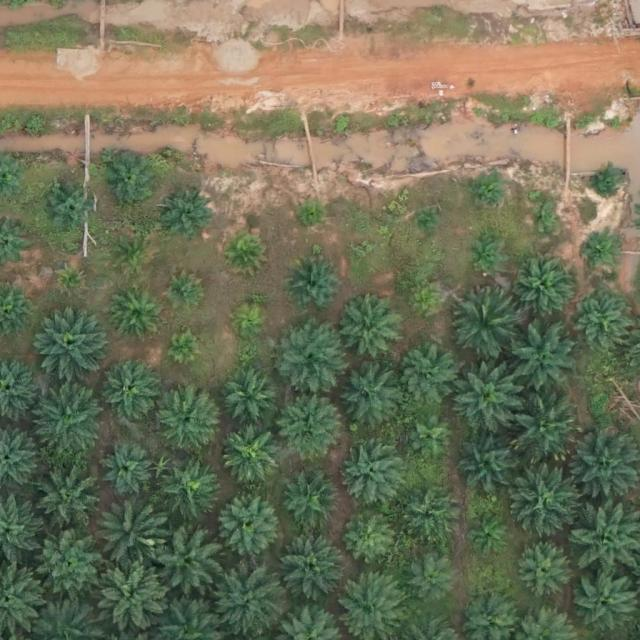Healthy: (505, 324, 576, 395), (569, 428, 639, 499), (512, 397, 582, 468), (452, 369, 522, 440), (274, 321, 344, 392), (150, 528, 221, 598), (37, 390, 107, 461), (37, 307, 107, 378), (514, 470, 584, 540), (449, 287, 519, 357), (216, 559, 286, 629), (32, 529, 102, 599), (574, 569, 637, 632), (455, 436, 518, 499), (279, 535, 342, 598), (277, 399, 340, 462), (99, 565, 162, 628), (515, 257, 578, 319), (399, 485, 461, 548), (341, 301, 403, 364), (337, 443, 400, 505), (219, 423, 282, 485), (219, 493, 281, 556), (157, 459, 220, 521), (99, 359, 162, 421), (400, 345, 462, 407), (342, 368, 404, 430), (155, 391, 217, 453), (35, 464, 97, 526), (575, 288, 630, 343), (287, 257, 342, 312), (518, 544, 573, 599), (404, 550, 459, 605), (283, 474, 338, 529), (223, 370, 278, 425), (103, 153, 158, 208), (41, 180, 96, 235), (109, 287, 164, 342), (100, 444, 155, 499), (343, 513, 397, 568)
Small: (164, 195, 211, 242), (407, 412, 454, 459), (470, 515, 509, 555), (586, 234, 617, 266), (590, 165, 621, 196), (530, 205, 561, 236), (472, 176, 503, 207), (469, 240, 500, 271), (415, 214, 439, 238), (299, 204, 322, 228), (409, 288, 432, 311), (354, 243, 370, 259)
Yellow: (99, 505, 162, 568), (226, 232, 265, 272), (116, 236, 155, 275), (233, 307, 264, 339), (171, 334, 202, 365), (168, 276, 199, 307), (58, 267, 81, 290)
